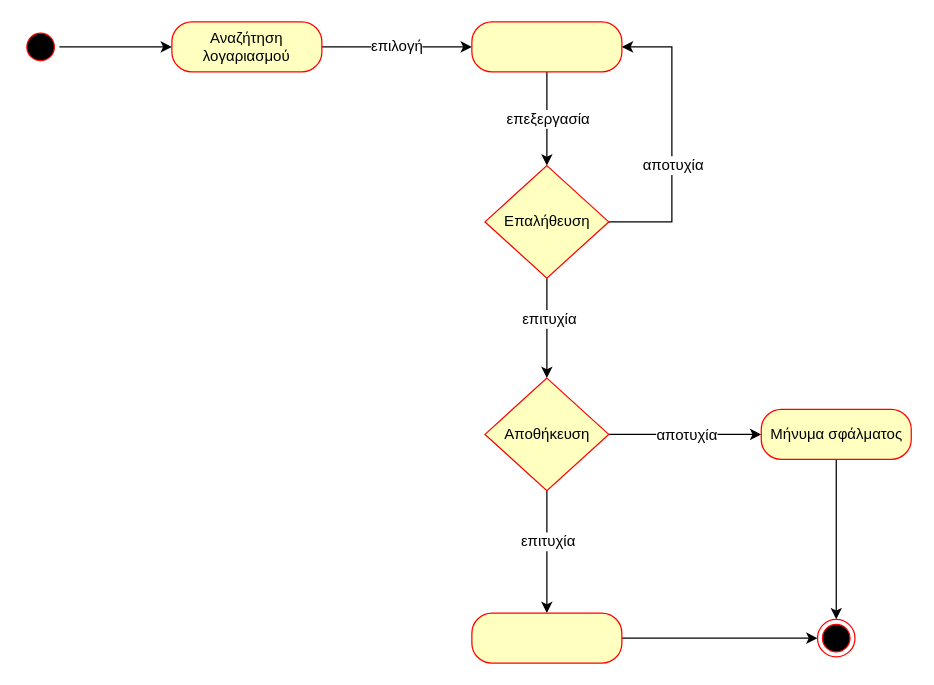
This 934x685 diagram has some shape labels left out. The shapes that lost their labels are listed below. From the top down, each one's centre as x and y in pixels, then its label:
the point at 546,46: Στοιχεία καταχώρησης
the point at 546,637: Επισκόπηση λογαριασμού
